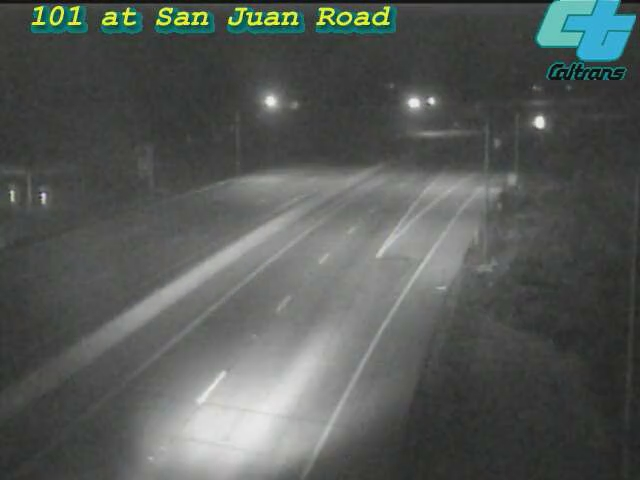vehicle: (513, 99, 563, 149)
